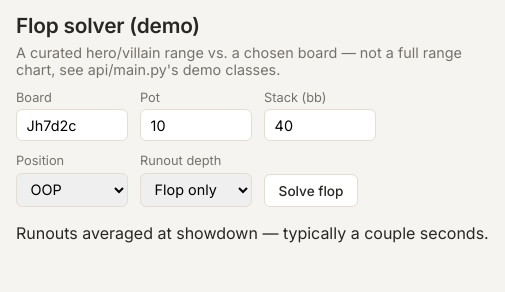
it: FlopSolver › shows an error message and no result on a rejected request
What coordinates should you click on to do the following:
click the button "Solve flop"
I would click on:
 (311, 191)
Its box is [264,174,358,207].
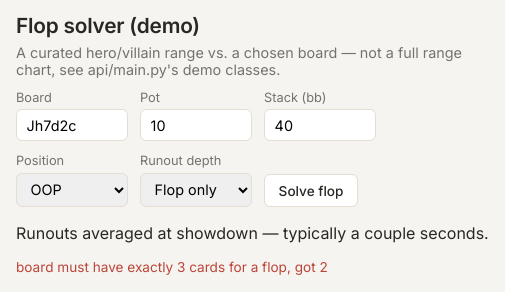
Now the message reads "board must have exactly 3 cards for a flop, got 2", box [16,259,328,275]
